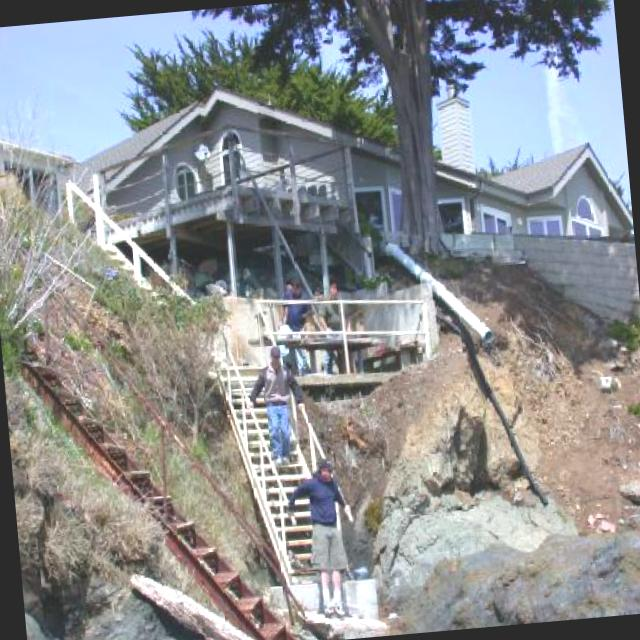Person: (254, 338, 308, 486)
